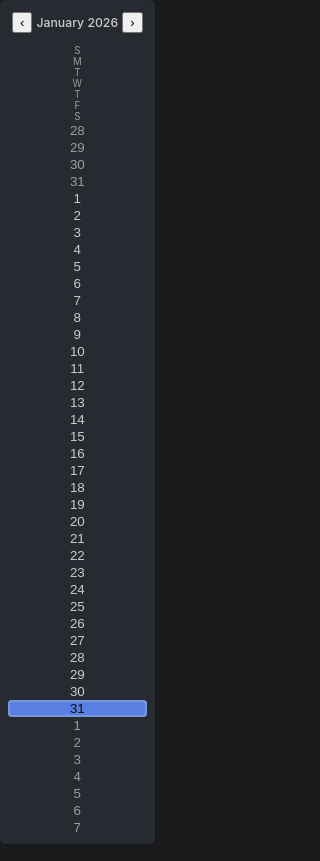
Calendar › header navigation keeps a focused day in the displayed month and clamps month ends
This screenshot has width=320, height=861.
Click the button named "Next month" at (132, 22), box [122,12,143,33]
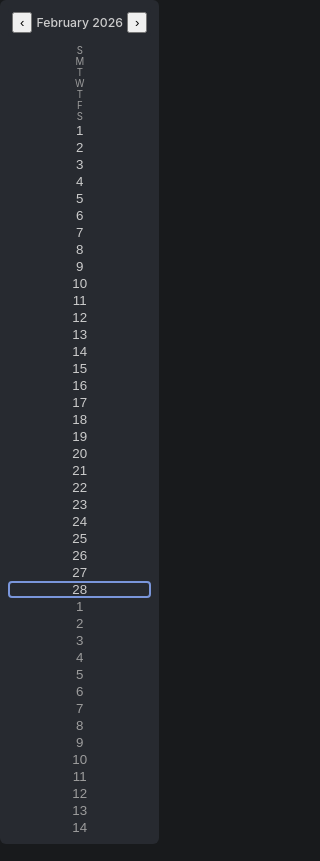
Result: the message reads "February 2026" at [36,15,123,30]
Click the button named "Previous month" at (22, 22), box [12,12,32,33]
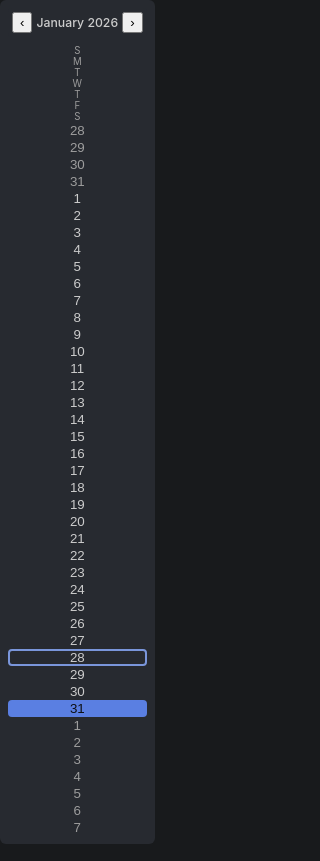
Result: the message reads "January 2026" at [36,15,118,30]
